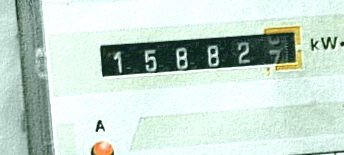1: (111, 48, 125, 75)
2: (235, 40, 252, 66)
5: (142, 47, 158, 74)
7: (266, 47, 282, 64)
8: (173, 45, 191, 71), (205, 43, 222, 69)
screen: (89, 20, 311, 91)
